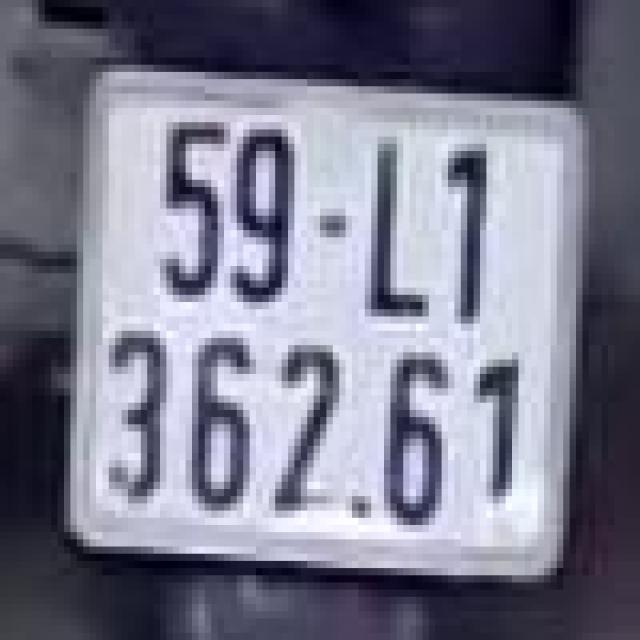1: (438, 133, 509, 349), (461, 348, 531, 536)
2: (262, 345, 346, 525)
3: (106, 324, 170, 511)
5: (154, 108, 230, 302)
6: (182, 324, 260, 525), (387, 345, 451, 539)
9: (227, 108, 317, 309)
L: (349, 129, 432, 338)
